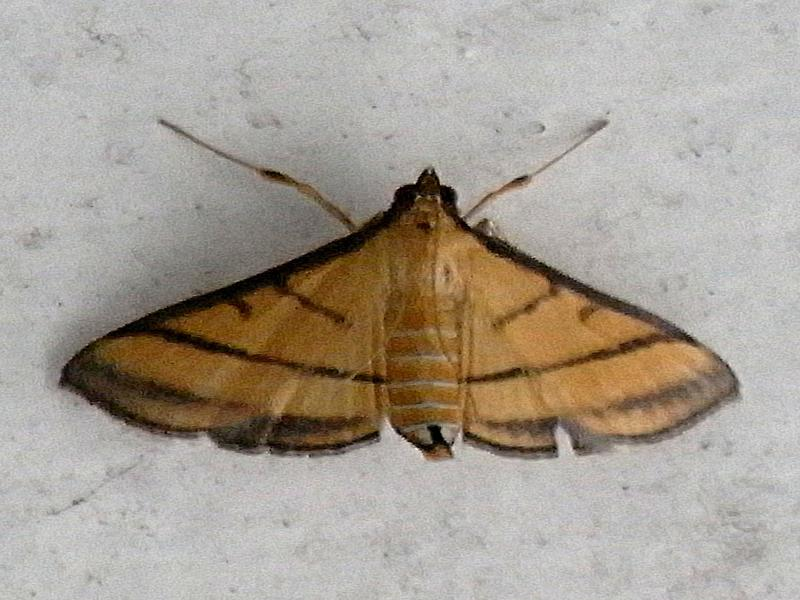Leaf_folder: (57, 169, 748, 481)
